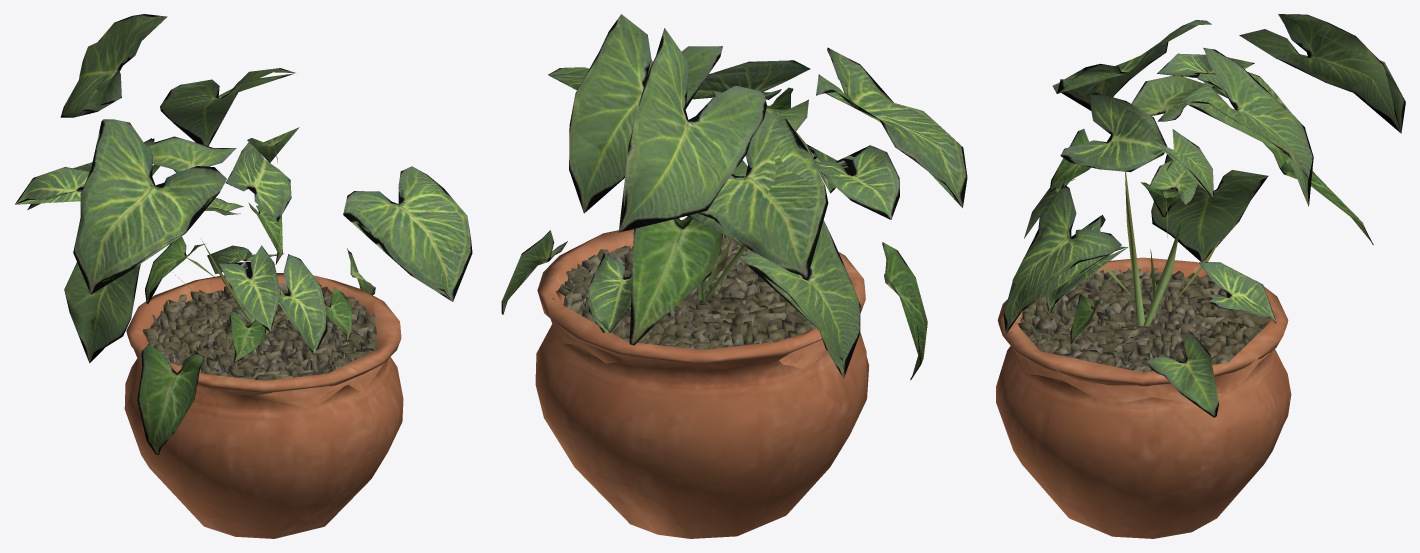
File: potted_plant_02.glb
The picture shows the model from 3 angles, left to right: view 1: azimuth 30°, elevation 25°; view 2: azimuth 150°, elevation 25°; view 3: azimuth 270°, elevation 25°; orthographic projection. The views are drawn at different scales.
Parts seen in each view (by area): view 1: potted_plant_02_pot, potted_plant_02_leaves, potted_plant_02_leaves_lo, potted_plant_02_pot_lo; view 2: potted_plant_02_pot, potted_plant_02_leaves, potted_plant_02_leaves_lo, potted_plant_02_pot_lo; view 3: potted_plant_02_pot, potted_plant_02_leaves, potted_plant_02_leaves_lo, potted_plant_02_pot_lo.
Part boxes in pixels (box(x1,y1,x2,y2)): potted_plant_02_pot: box(124, 273, 403, 538); potted_plant_02_leaves: box(15, 14, 472, 454); potted_plant_02_leaves_lo: box(15, 40, 472, 453); potted_plant_02_pot_lo: box(134, 284, 384, 456); potted_plant_02_pot: box(535, 229, 869, 538); potted_plant_02_leaves: box(501, 14, 967, 380); potted_plant_02_leaves_lo: box(506, 30, 962, 377); potted_plant_02_pot_lo: box(550, 271, 868, 470); potted_plant_02_pot: box(996, 257, 1291, 538); potted_plant_02_leaves: box(1003, 14, 1405, 417); potted_plant_02_leaves_lo: box(1006, 14, 1401, 411); potted_plant_02_pot_lo: box(1016, 291, 1269, 478).
Size of the model in its own units: 0.7009 by 0.8395 by 0.6554.
Materials: 2 (2 with a texture image).
